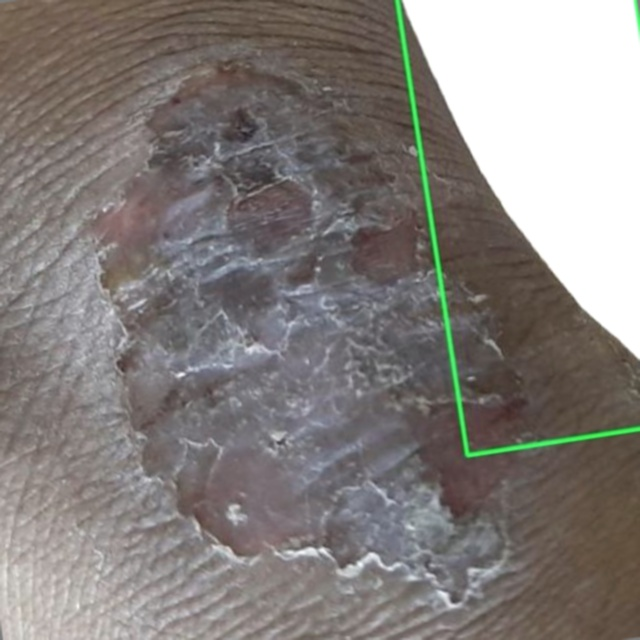Contact Dermatitis: (397, 0, 639, 455)
